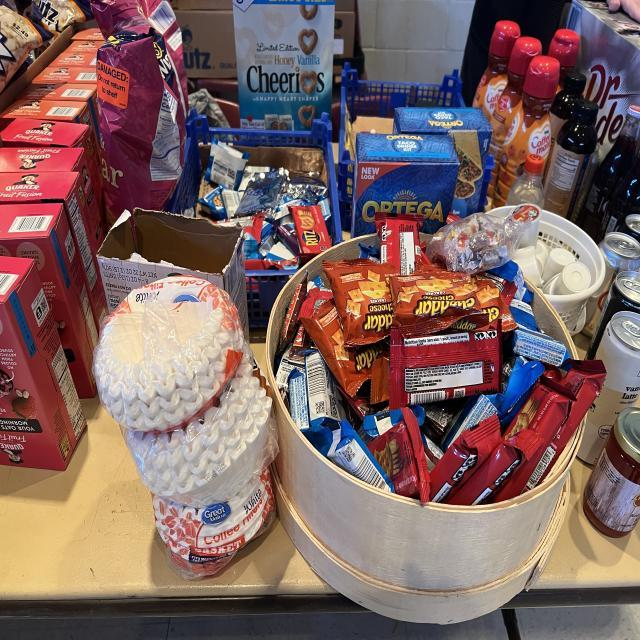Cereal: (232, 0, 335, 130)
Coffee: (579, 312, 640, 465), (586, 270, 640, 358)
Creamer: (494, 55, 560, 205), (488, 37, 541, 197), (472, 20, 520, 122), (548, 28, 580, 88), (508, 203, 542, 248), (551, 262, 591, 295), (512, 247, 541, 287), (541, 248, 575, 282), (535, 240, 550, 273)
Oats: (0, 203, 99, 398), (0, 257, 85, 470), (0, 172, 106, 320), (0, 147, 104, 252), (1, 118, 102, 207), (16, 83, 99, 142), (0, 100, 94, 132), (32, 67, 96, 83), (50, 52, 96, 68), (66, 40, 104, 53), (72, 28, 105, 42)
Pickled Food -Jar-: (582, 407, 640, 537)
Snack: (92, 0, 188, 220), (524, 358, 606, 492), (389, 318, 501, 410), (495, 383, 570, 502), (300, 298, 379, 397), (446, 430, 544, 505), (322, 258, 398, 347), (304, 420, 395, 493), (426, 212, 531, 275), (429, 415, 501, 503), (390, 270, 481, 337), (368, 407, 430, 502), (489, 358, 545, 425), (0, 7, 42, 93), (305, 352, 345, 422), (275, 325, 315, 395), (512, 325, 570, 367), (290, 205, 331, 262), (279, 270, 308, 350), (205, 138, 249, 190), (235, 175, 286, 217), (476, 280, 516, 332), (339, 380, 389, 420), (421, 402, 460, 450), (455, 395, 498, 438), (35, 0, 86, 32), (275, 343, 304, 397), (488, 260, 524, 300), (479, 272, 518, 307), (289, 368, 310, 430), (219, 215, 264, 243), (364, 408, 404, 438), (509, 298, 540, 332), (370, 352, 390, 403), (199, 185, 228, 220), (274, 198, 302, 220), (221, 190, 242, 218), (265, 242, 295, 260), (244, 233, 259, 260), (259, 233, 275, 258), (242, 165, 270, 178), (502, 320, 511, 332), (418, 412, 424, 425)
Soda: (579, 105, 640, 242), (544, 98, 598, 220), (582, 233, 640, 335), (599, 152, 640, 238), (550, 72, 586, 157), (620, 213, 640, 243)
Water: (505, 153, 544, 208)
